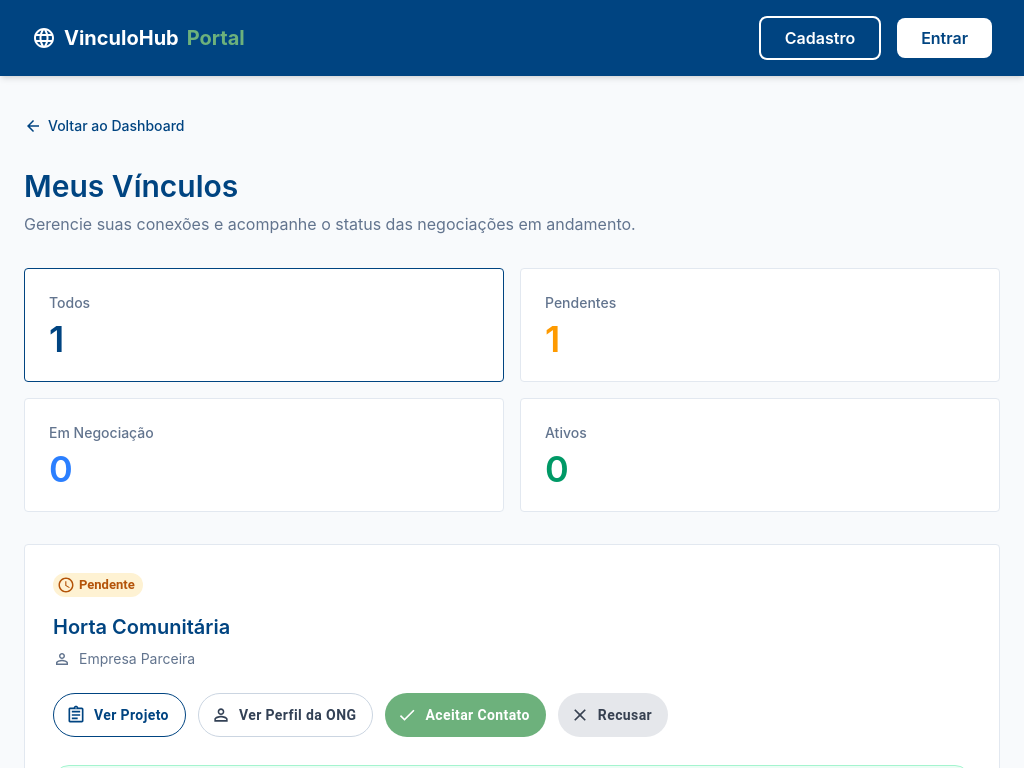
Test: MyRelationshipsPage › abre confirmação de recusa e recusa com companyId e projectId corretos
Click the button "Recusar" at point(613, 715), box [558,693,668,737]
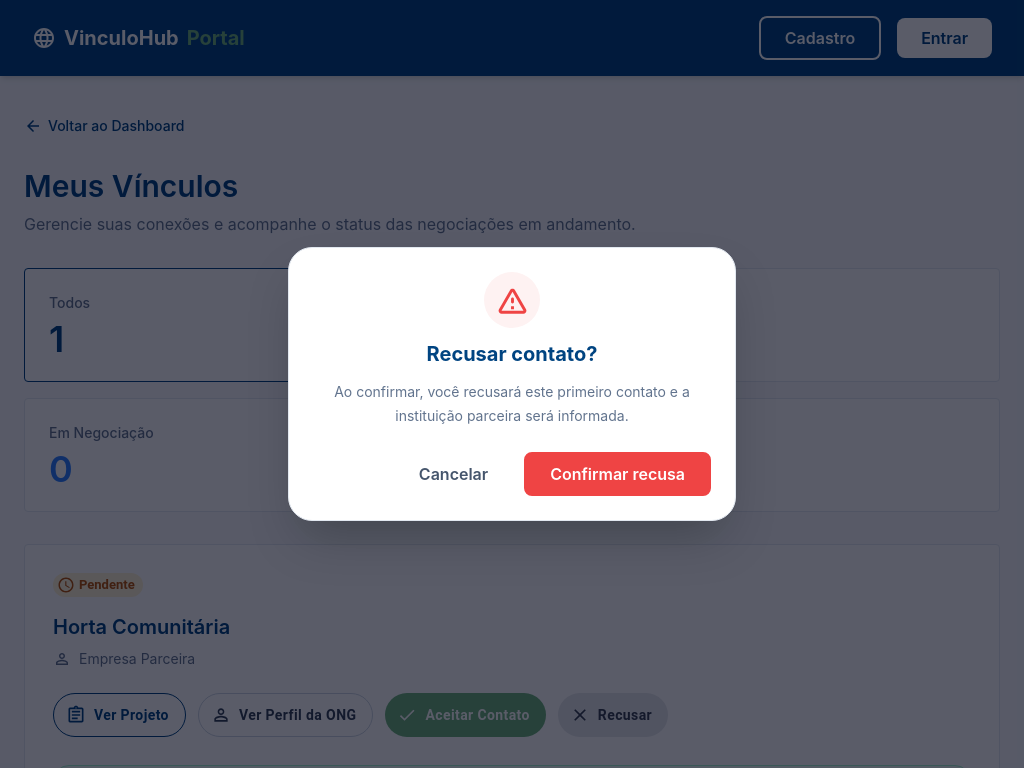
Now the dialog "Recusar contato?" is shown
Click the button "Confirmar recusa" at point(618, 474), box [524,452,711,496]
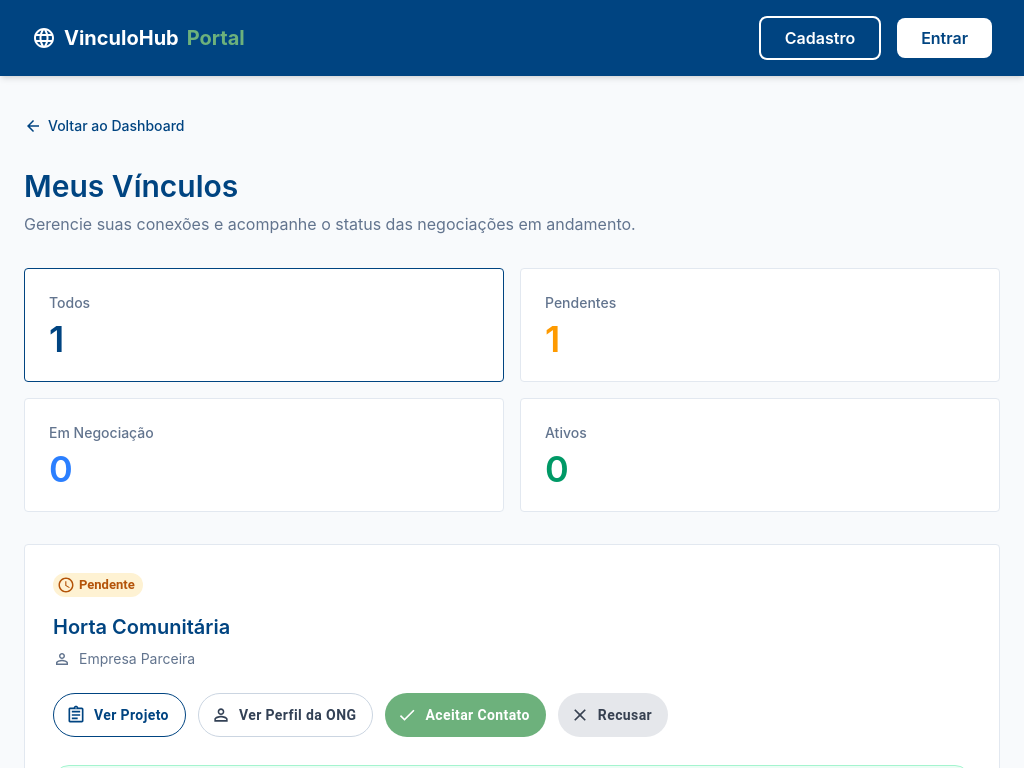
Now the dialog is gone
